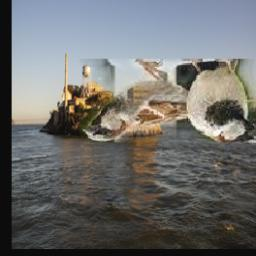Sparrow: (80, 59, 256, 142)
